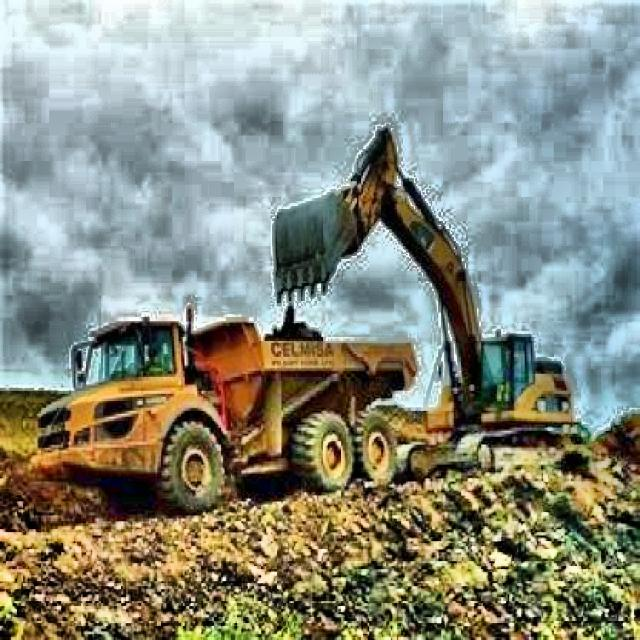dump_truck: (38, 309, 420, 513)
excavator: (282, 134, 596, 496)
